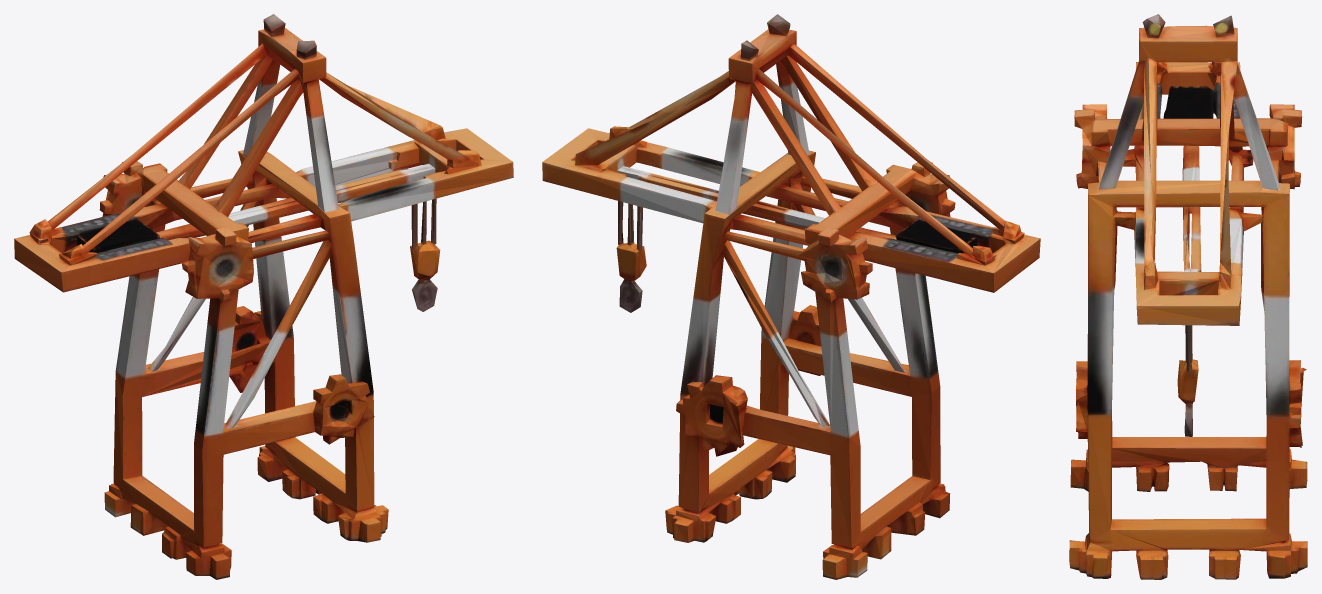
Rendered from crane.glb.
3 renders of one model, left to right at view 1: azimuth 30°, elevation 25°; view 2: azimuth 150°, elevation 25°; view 3: azimuth 270°, elevation 25°, orthographic. The views are drawn at different scales.
Visible parts, largest first — view 1: geometry_0; view 2: geometry_0; view 3: geometry_0.
Part boxes in pixels (box(x1,y1,x2,y2)): geometry_0: box(14, 14, 513, 579); geometry_0: box(542, 14, 1040, 579); geometry_0: box(1069, 14, 1307, 579).
Size of the model in its own units: 0.9705 by 0.9907 by 0.3994.
Materials: 1 (1 with a texture image).
